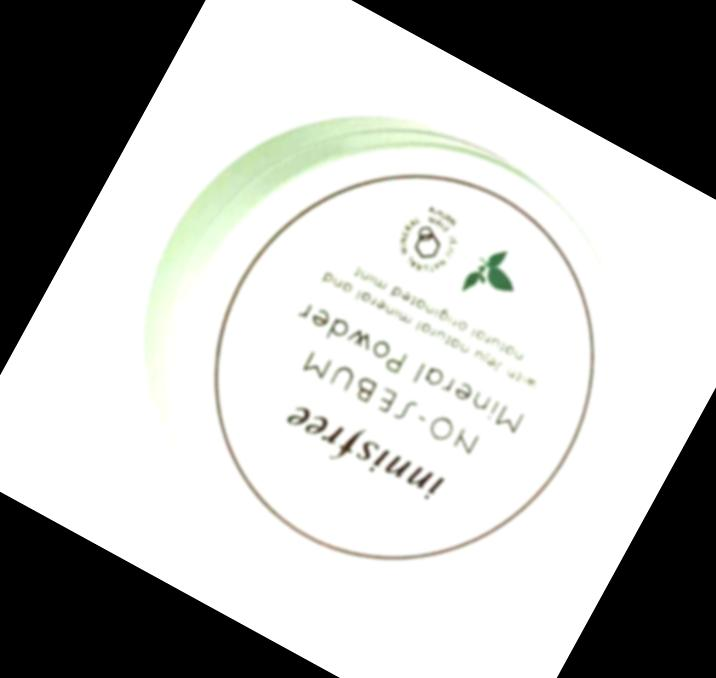cosmetic: (71, 48, 689, 659)
